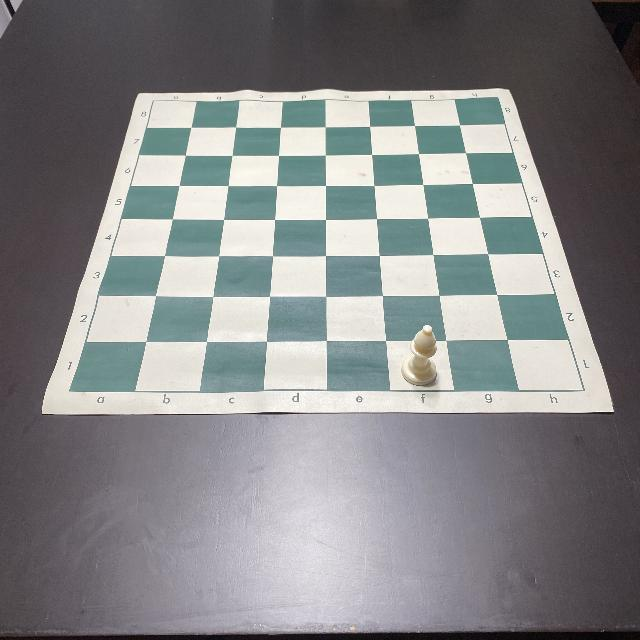board: (42, 87, 614, 415)
white-bishop: (401, 324, 439, 386)
